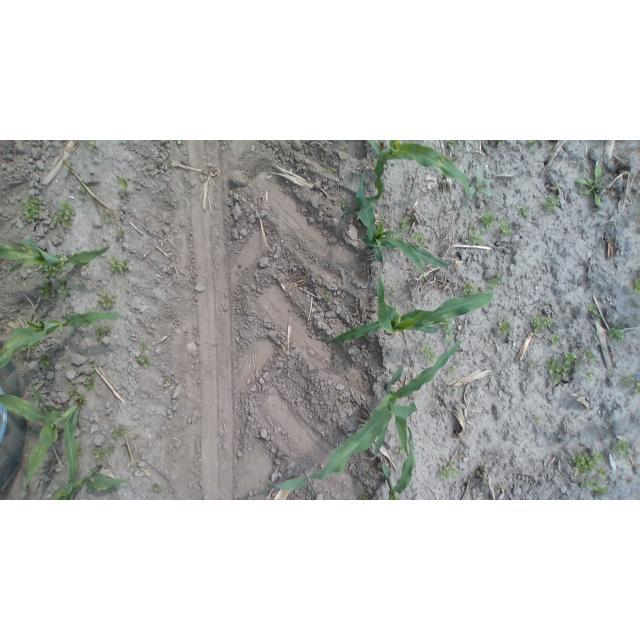Maize: (265, 338, 464, 492), (319, 269, 498, 344), (355, 167, 453, 282), (1, 384, 84, 500), (1, 310, 136, 372), (357, 141, 472, 212), (0, 229, 114, 275), (41, 466, 133, 500), (382, 424, 416, 500)
Weeds: (577, 162, 608, 206), (545, 351, 579, 386), (571, 450, 607, 482), (49, 201, 77, 231), (469, 168, 492, 198), (21, 197, 43, 224), (578, 478, 608, 497), (529, 312, 554, 333), (438, 461, 462, 482), (542, 193, 562, 216), (108, 255, 131, 275), (607, 321, 627, 343), (418, 343, 438, 363), (464, 230, 487, 247), (613, 438, 633, 457), (97, 291, 116, 310), (485, 272, 504, 291), (38, 282, 56, 301), (479, 212, 497, 231), (619, 373, 637, 392), (57, 279, 74, 299), (460, 280, 480, 297), (39, 264, 61, 279), (67, 387, 87, 403), (94, 445, 115, 460), (439, 319, 453, 341), (585, 301, 602, 319), (412, 232, 429, 249), (82, 372, 98, 390), (94, 324, 112, 340), (498, 220, 513, 239), (110, 426, 130, 440), (497, 317, 512, 335), (584, 347, 597, 363), (118, 176, 131, 192), (148, 482, 165, 494), (136, 353, 150, 367), (323, 165, 339, 176), (42, 355, 55, 368), (517, 205, 531, 217), (86, 141, 101, 152), (445, 362, 457, 375), (398, 217, 411, 229), (549, 334, 561, 346), (113, 228, 125, 239), (137, 342, 148, 353), (76, 187, 88, 197), (632, 278, 639, 295), (323, 288, 332, 301), (523, 141, 539, 148), (585, 370, 596, 380), (444, 383, 454, 394), (76, 282, 88, 291), (341, 198, 350, 210), (395, 445, 405, 455), (358, 491, 370, 499), (163, 380, 172, 389), (500, 482, 509, 491), (528, 362, 538, 370), (90, 362, 100, 370), (495, 140, 507, 146), (175, 141, 183, 146)
